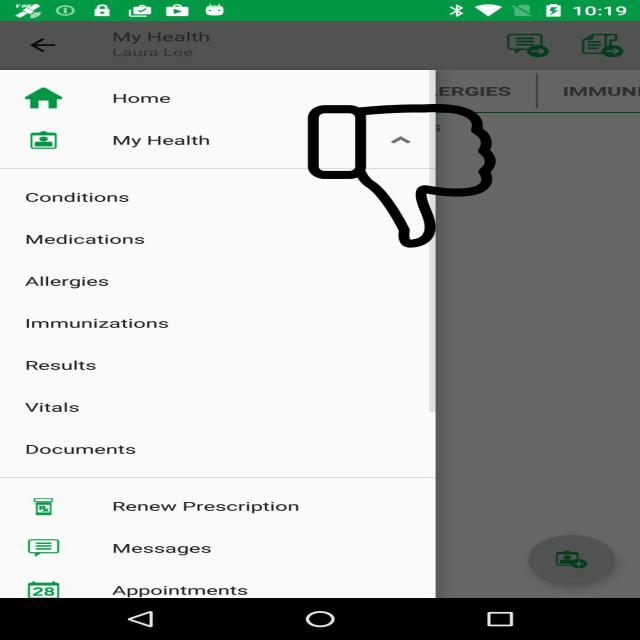obstruction: (306, 104, 498, 248)
